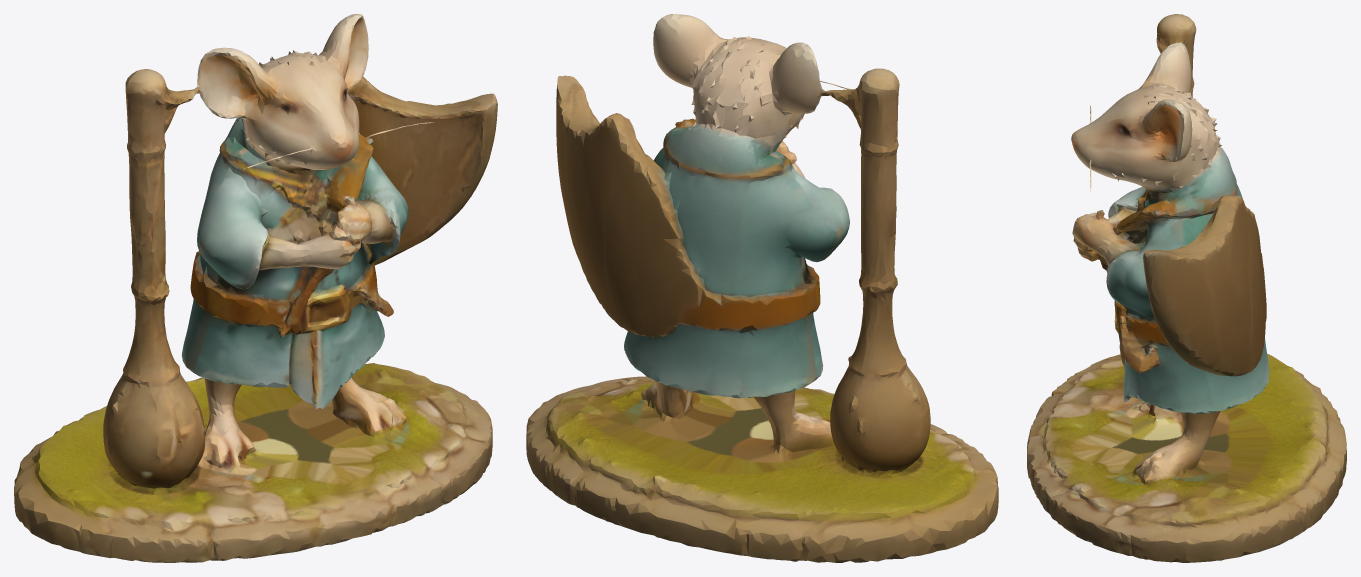
The picture shows the model from 3 angles, left to right: view 1: azimuth 30°, elevation 25°; view 2: azimuth 150°, elevation 25°; view 3: azimuth 270°, elevation 25°; orthographic projection. The views are drawn at different scales.
Parts seen in each view (by area): view 1: 006; view 2: 006; view 3: 006.
Boxes of the visible parts, x1=… form: 006: x1=14, y1=14, x2=497, y2=562; 006: x1=526, y1=14, x2=998, y2=562; 006: x1=1027, y1=14, x2=1346, y2=562.
Bounding box in the file's own units: 1.9 × 1.81 × 1.29.
1 material, 1 textured.
